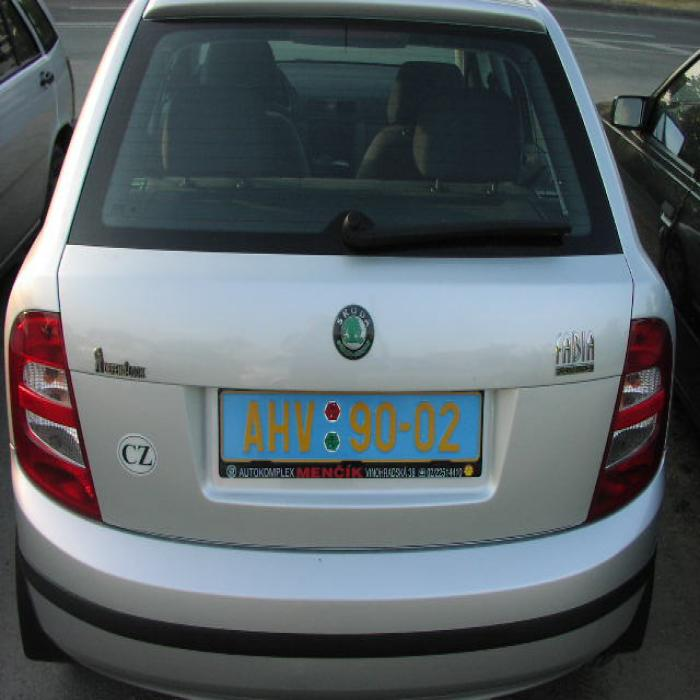number_plate: (218, 392, 481, 459)
